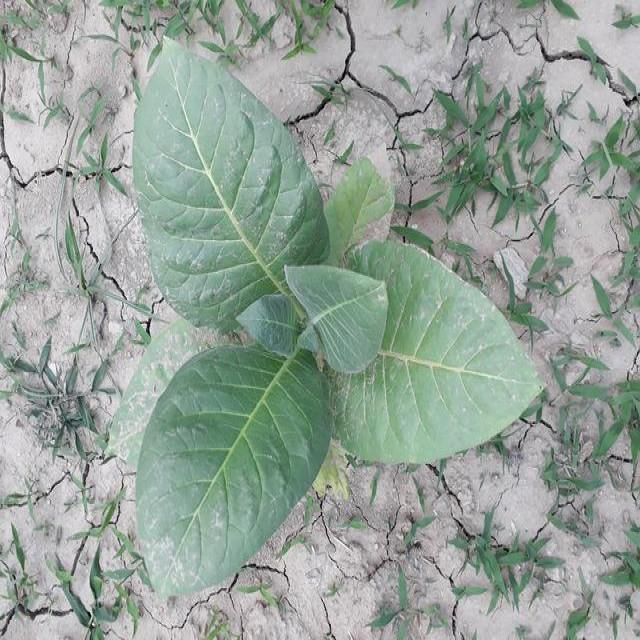crop: (126, 34, 546, 602)
